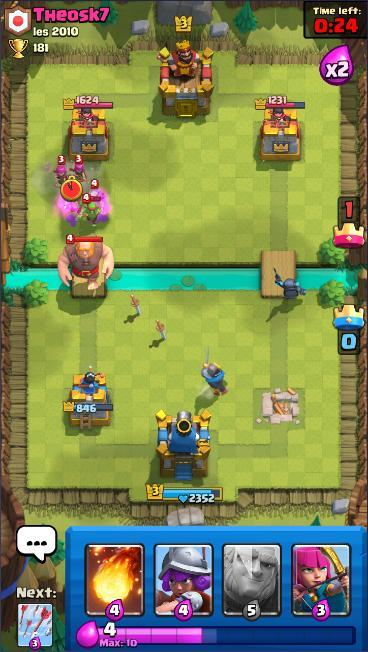ally_knight: (201, 343, 231, 398)
ally_mini_pekka: (270, 265, 307, 302)
enemy_archer: (53, 154, 72, 188), (70, 153, 88, 185)
enemy_giant: (57, 233, 117, 292)
enemy_spear_goblin: (81, 194, 104, 228), (87, 178, 104, 212)
